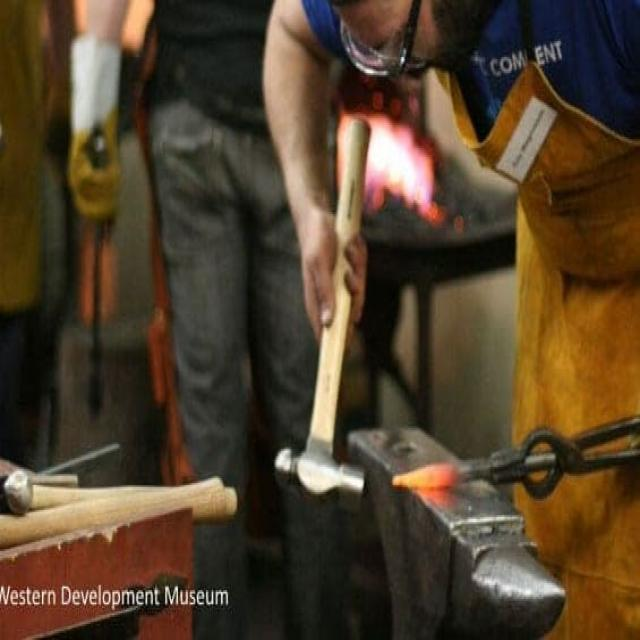hammer: (270, 111, 380, 534)
